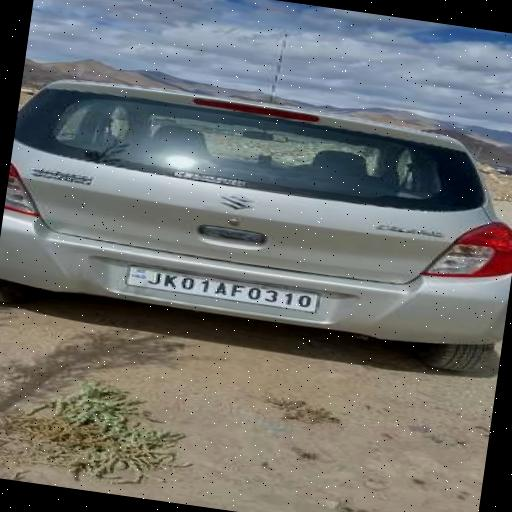license_plate`: (125, 264, 318, 312)
